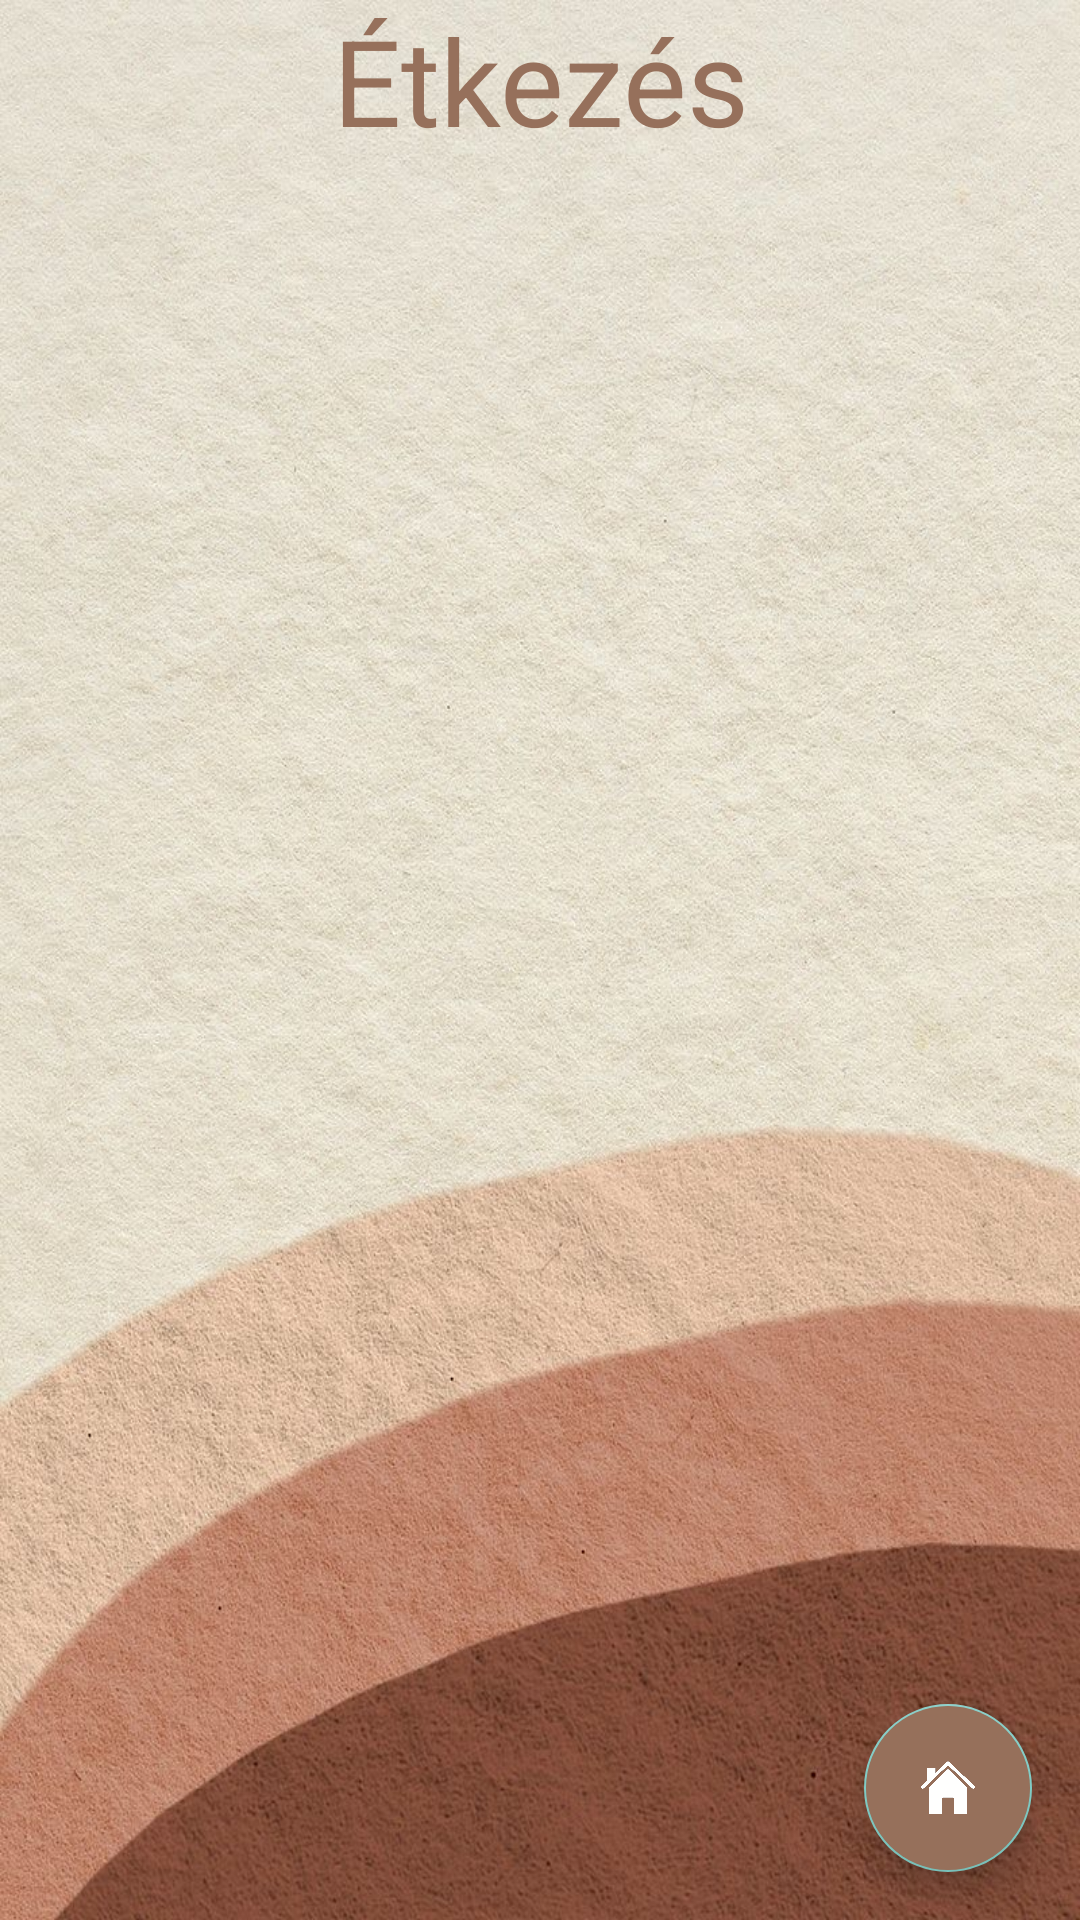

Named icons in this screenshot (1080px×1920px) and their centers, (x,y):
house: (948,1788)
